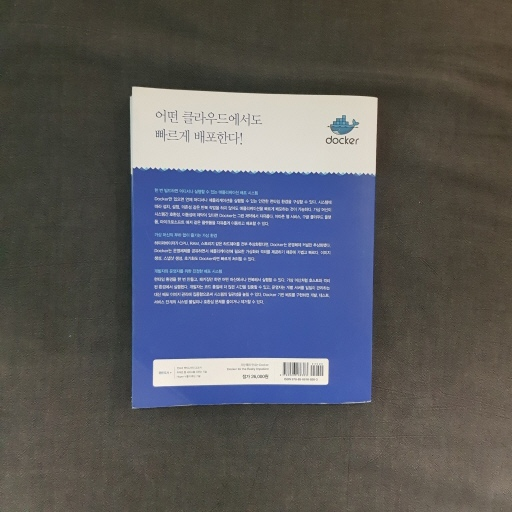Paper_0: (121, 83, 387, 413)
